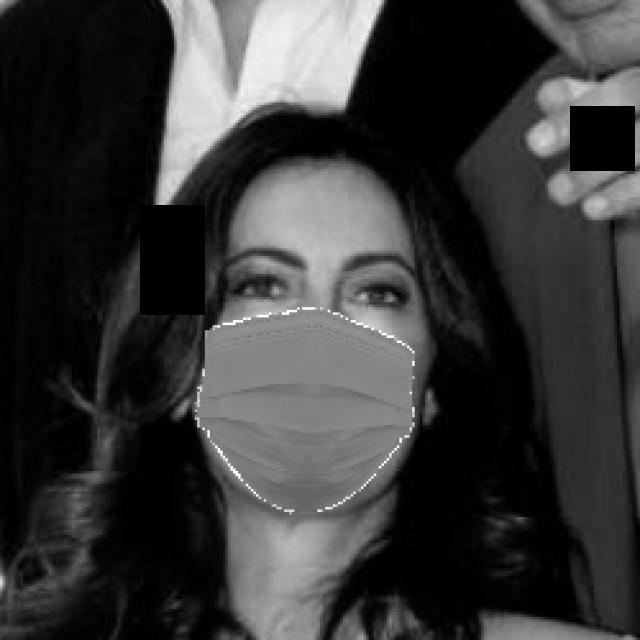surgical: (198, 169, 436, 505)
